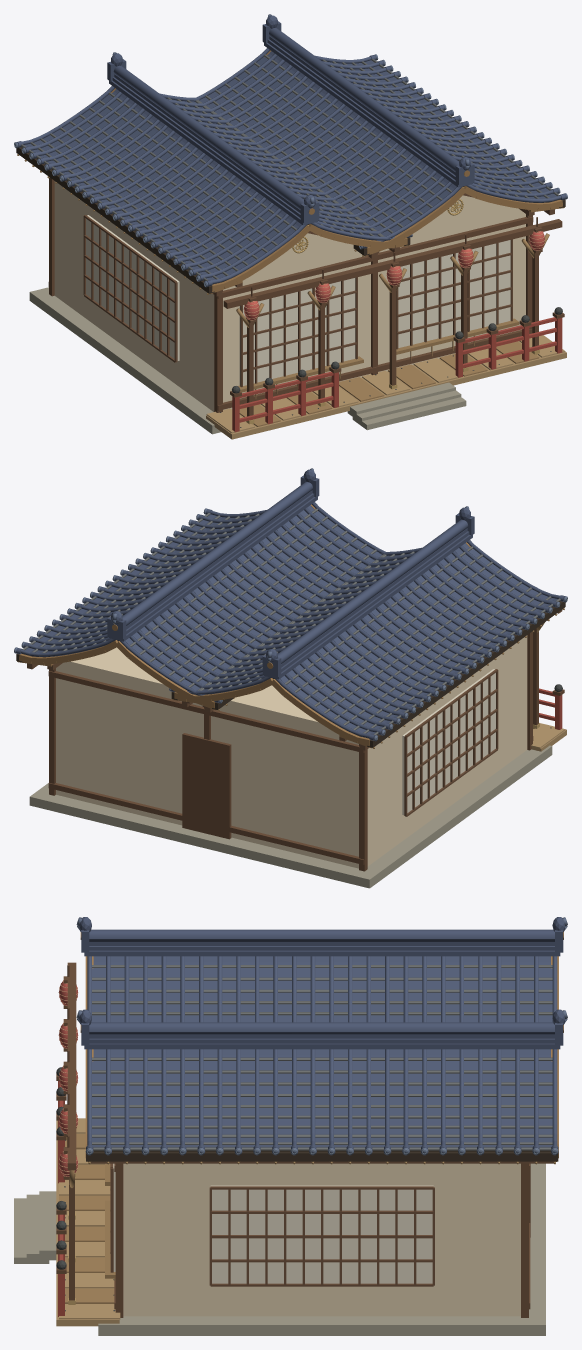
The model's file is feihua_annex-refined-v1.glb.
The picture shows the model from 3 angles, top to bottom: view 1: azimuth 30°, elevation 25°; view 2: azimuth 150°, elevation 25°; view 3: azimuth 270°, elevation 25°; orthographic projection. The views are drawn at different scales.
Parts seen in each view (by area): view 1: feihua_annex_FH_525d77_surface, feihua_annex_FH_e5d4b5_surface, feihua_annex_FH_e6deca_window, feihua_annex_FH_70513b_surface, feihua_annex_FH_6d7070_surface, feihua_annex_FH_71533d_surface, feihua_annex_FH_a5a08e_surface, feihua_annex_FH_aa5145_surface, feihua_annex_FH_a17c51_surface, feihua_annex_FH_b99b70_surface, feihua_annex_FH_a7865c_surface, feihua_annex_FH_b3956b_surface (+5 smaller); view 2: feihua_annex_FH_525d77_surface, feihua_annex_FH_e5d4b5_surface, feihua_annex_FH_70513b_surface, feihua_annex_FH_6d7070_surface, feihua_annex_FH_a5a08e_surface, feihua_annex_FH_e6deca_window, feihua_annex_FH_71533d_surface, feihua_annex_FH_a17c51_surface, feihua_annex_FH_41362b_surface, feihua_annex_FH_65728a_surface; view 3: feihua_annex_FH_525d77_surface, feihua_annex_FH_e5d4b5_surface, feihua_annex_FH_6d7070_surface, feihua_annex_FH_e6deca_window, feihua_annex_FH_a5a08e_surface, feihua_annex_FH_71533d_surface, feihua_annex_FH_70513b_surface, feihua_annex_FH_41362b_surface, feihua_annex_FH_b99b70_surface, feihua_annex_FH_a7865c_surface, feihua_annex_FH_65728a_surface, feihua_annex_FH_cc6559_lamp (+5 smaller).
Part boxes in pixels (bbox=[...]): feihua_annex_FH_525d77_surface: bbox=[17, 15, 565, 286]; feihua_annex_FH_e5d4b5_surface: bbox=[54, 181, 525, 411]; feihua_annex_FH_e6deca_window: bbox=[86, 215, 510, 385]; feihua_annex_FH_70513b_surface: bbox=[48, 178, 564, 420]; feihua_annex_FH_6d7070_surface: bbox=[21, 54, 558, 280]; feihua_annex_FH_71533d_surface: bbox=[83, 208, 554, 387]; feihua_annex_FH_a5a08e_surface: bbox=[29, 287, 466, 434]; feihua_annex_FH_aa5145_surface: bbox=[232, 317, 562, 432]; feihua_annex_FH_a17c51_surface: bbox=[109, 50, 562, 293]; feihua_annex_FH_b99b70_surface: bbox=[206, 335, 565, 433]; feihua_annex_FH_a7865c_surface: bbox=[239, 341, 539, 426]; feihua_annex_FH_b3956b_surface: bbox=[206, 341, 566, 439]; feihua_annex_FH_525d77_surface: bbox=[16, 469, 564, 740]; feihua_annex_FH_e5d4b5_surface: bbox=[56, 635, 527, 868]; feihua_annex_FH_70513b_surface: bbox=[48, 610, 564, 871]; feihua_annex_FH_6d7070_surface: bbox=[22, 508, 560, 734]; feihua_annex_FH_a5a08e_surface: bbox=[29, 745, 552, 888]; feihua_annex_FH_e6deca_window: bbox=[402, 669, 495, 815]; feihua_annex_FH_71533d_surface: bbox=[27, 662, 498, 816]; feihua_annex_FH_a17c51_surface: bbox=[19, 504, 472, 748]; feihua_annex_FH_41362b_surface: bbox=[16, 601, 565, 747]; feihua_annex_FH_65728a_surface: bbox=[14, 468, 567, 741]; feihua_annex_FH_525d77_surface: bbox=[79, 917, 565, 1149]; feihua_annex_FH_e5d4b5_surface: bbox=[123, 1163, 520, 1316]; feihua_annex_FH_6d7070_surface: bbox=[92, 965, 552, 1150]; feihua_annex_FH_e6deca_window: bbox=[113, 1163, 433, 1283]; feihua_annex_FH_a5a08e_surface: bbox=[14, 1163, 545, 1335]; feihua_annex_FH_71533d_surface: bbox=[91, 1161, 553, 1286]; feihua_annex_FH_70513b_surface: bbox=[56, 962, 530, 1317]; feihua_annex_FH_41362b_surface: bbox=[86, 1150, 558, 1161]; feihua_annex_FH_b99b70_surface: bbox=[59, 1118, 120, 1319]; feihua_annex_FH_a7865c_surface: bbox=[59, 1134, 114, 1303]; feihua_annex_FH_65728a_surface: bbox=[76, 917, 567, 1155]; feihua_annex_FH_cc6559_lamp: bbox=[59, 981, 77, 1176].
Size of the model in its own units: 14.56 by 8.49 by 15.74.
